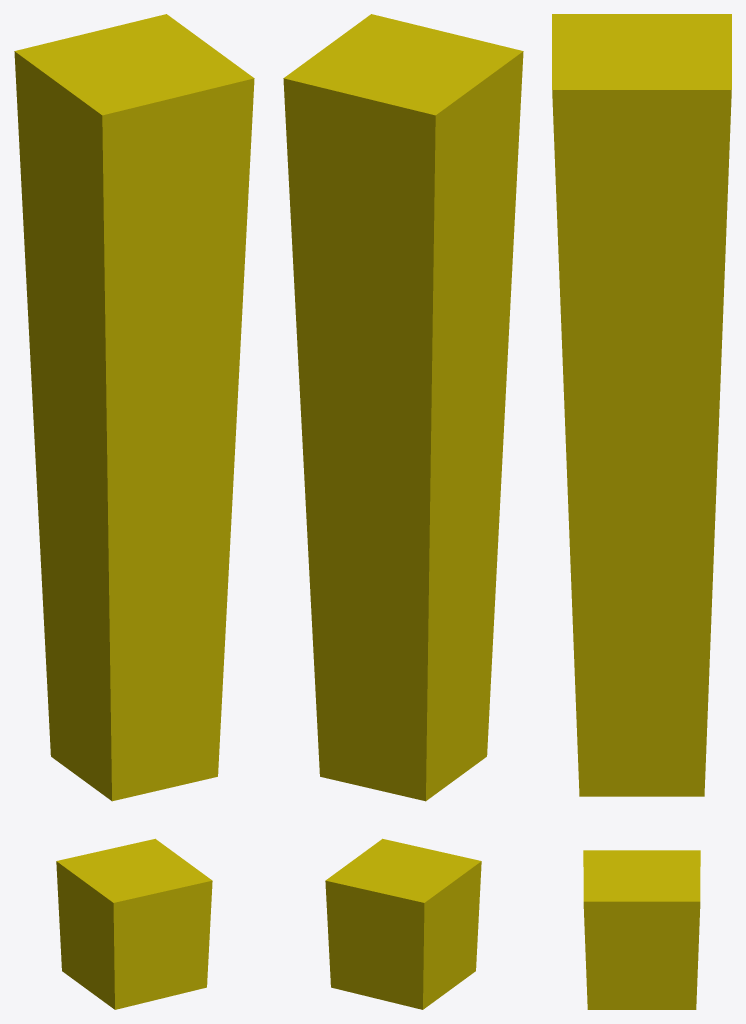
Rendered from exclamation.fbx.
3 views of the same model, side by side, from view 1: azimuth 30°, elevation 25°; view 2: azimuth 150°, elevation 25°; view 3: azimuth 270°, elevation 25° (orthographic). The views are drawn at different scales.
Visible parts, largest first — view 1: Exclamation; view 2: Exclamation; view 3: Exclamation.
Part boxes in pixels (x1,y1,x2,y2): Exclamation: [14, 14, 254, 1009]; Exclamation: [283, 14, 523, 1009]; Exclamation: [552, 14, 731, 1009].
Size of the model in its own units: 66.15 by 380 by 66.15.
